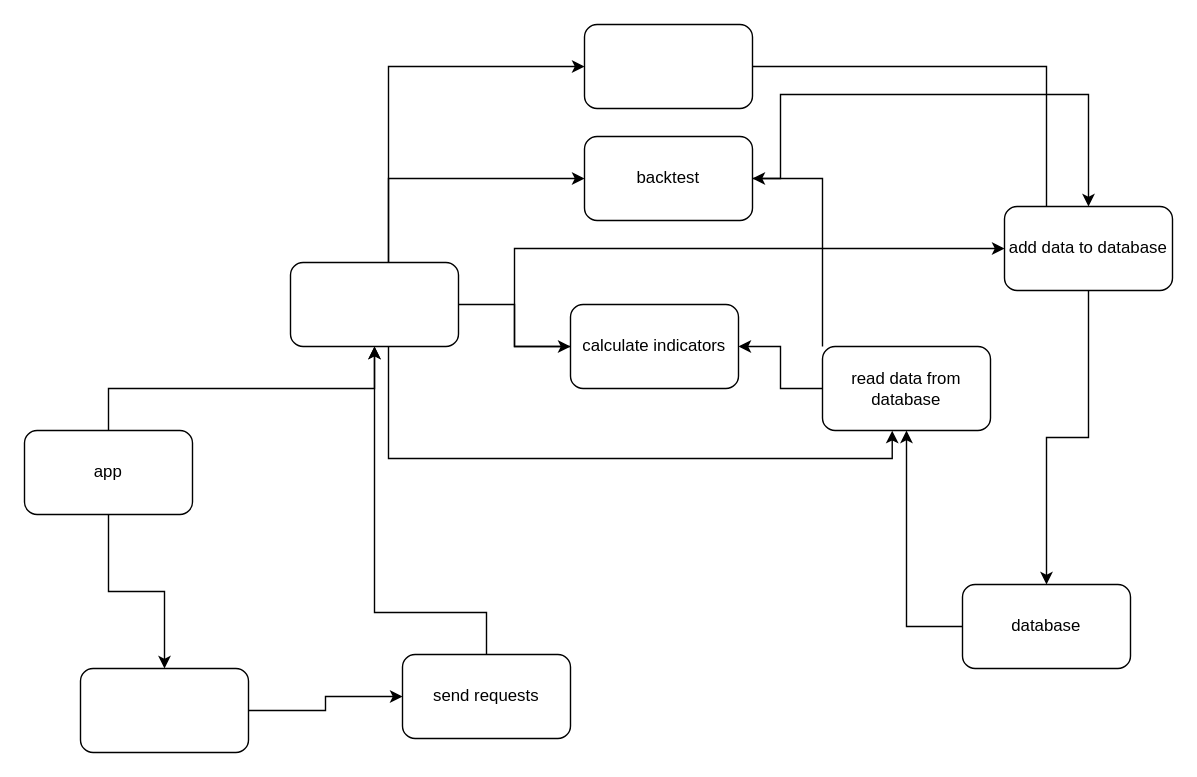
This 1197x777 diagram has some shape labels left out. The shapes that lost their labels are listed below. From the top down, each one's centre as x and y in pixels, then its label:
point (667, 65): get data
point (373, 303): nestjs
point (163, 709): front-end
